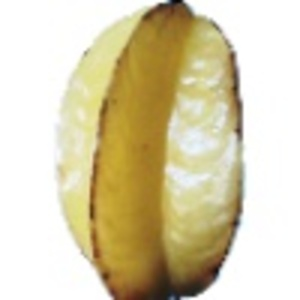carambola: (57, 1, 246, 300)
